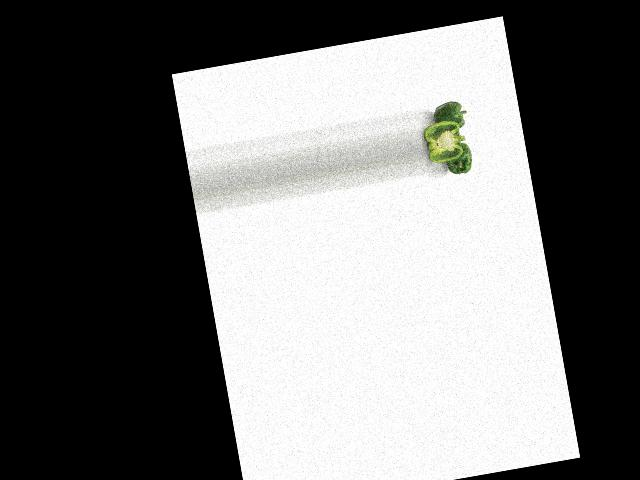bell_pepper: (439, 138, 477, 179)
